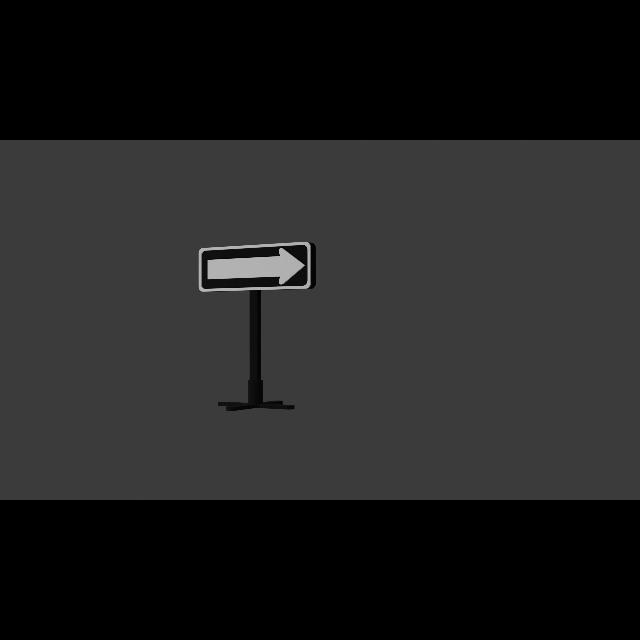sign_oneway_right: (199, 249, 315, 293)
